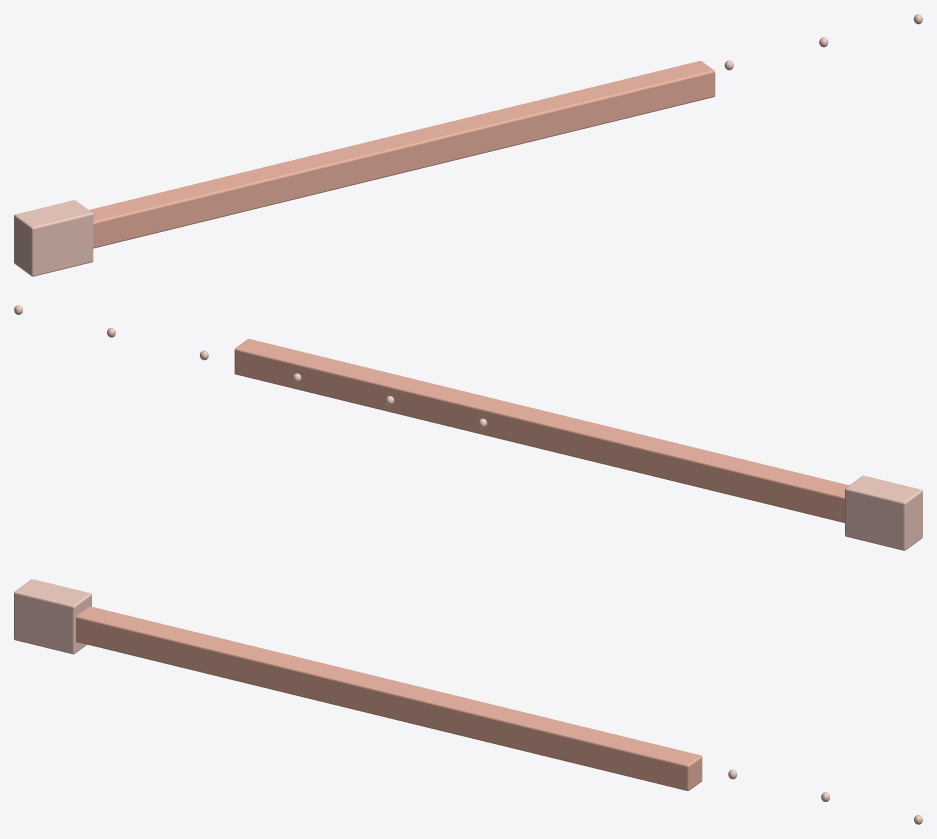
The model's file is VM-CAB-SH39962322.glb.
3 renders of one model, top to bottom at view 1: azimuth 30°, elevation 25°; view 2: azimuth 150°, elevation 25°; view 3: azimuth 330°, elevation 25°, orthographic.
Parts seen in each view (by area): view 1: Cinturón Grueso de Cuero Italiano; view 2: Cinturón Grueso de Cuero Italiano; view 3: Cinturón Grueso de Cuero Italiano.
Part boxes in pixels (x1,y1,x2,y2): Cinturón Grueso de Cuero Italiano: [14, 14, 922, 276]; Cinturón Grueso de Cuero Italiano: [14, 305, 922, 550]; Cinturón Grueso de Cuero Italiano: [14, 579, 922, 824].
Bounding box in the file's own units: 1.36 × 0.0709 × 0.0524.
